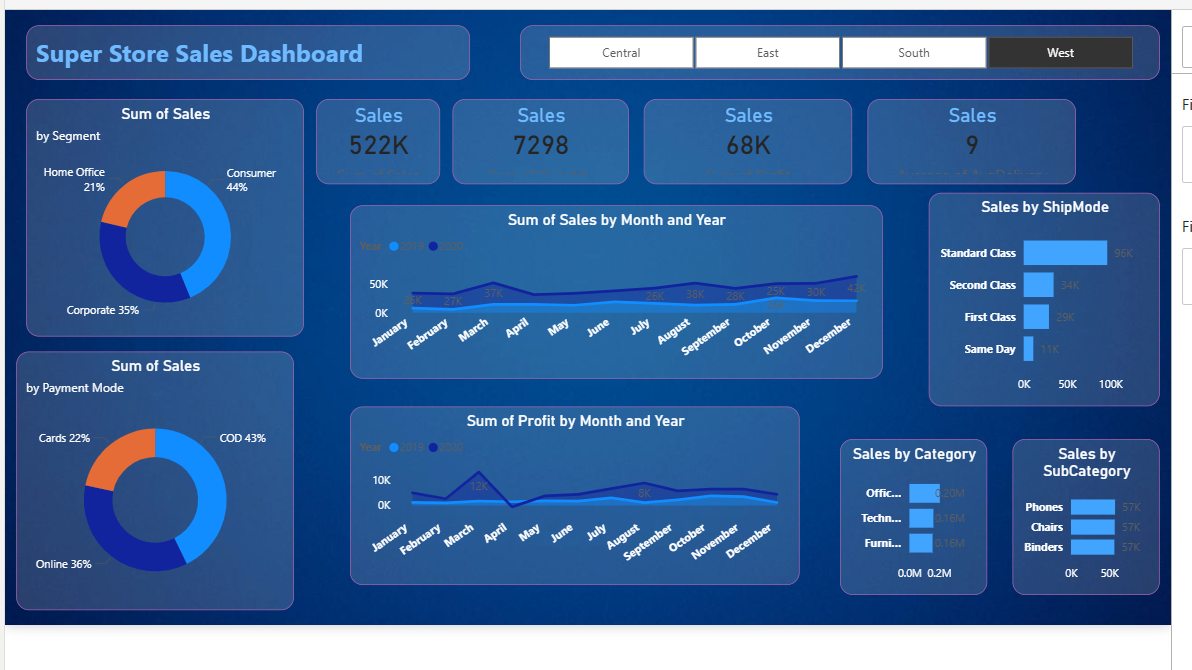

What the dashboard file says about the page in this screenshot:
{"tool":"powerbi","page":{"name":"Page 1","canvas":[1280,720],"ordinal":0},"visuals":[{"type":"clusteredBarChart","title":"Sales by Category","fields":{"Category":["SuperStore_Sales_Dataset.Category"],"Y":["Sum(SuperStore_Sales_Dataset.Sales)"]},"box":[916.6,516,161.9,171.5],"z":0},{"type":"clusteredBarChart","title":"Sales by SubCategory","fields":{"Category":["SuperStore_Sales_Dataset.Sub-Category","SuperStore_Sales_Dataset.Category"],"Y":["Sum(SuperStore_Sales_Dataset.Sales)"]},"box":[1106,516,161.9,171.5],"z":1000},{"type":"clusteredBarChart","title":"Sales by ShipMode","fields":{"Category":["SuperStore_Sales_Dataset.Ship Mode","SuperStore_Sales_Dataset.Sub-Category","SuperStore_Sales_Dataset.Category"],"Y":["Sum(SuperStore_Sales_Dataset.Sales)"]},"box":[1014.1,245.6,253.9,234.6],"z":2000},{"type":"stackedAreaChart","fields":{"Y":["Sum(SuperStore_Sales_Dataset.Sales)"],"Series":["SuperStore_Sales_Dataset.Order Date.Variation.Date Hierarchy.Year"],"Category":["SuperStore_Sales_Dataset.Order Date.Variation.Date Hierarchy.Month","SuperStore_Sales_Dataset.Order Date.Variation.Date Hierarchy.Day"]},"box":[378.7,259.3,584.6,190.7],"z":3000},{"type":"stackedAreaChart","fields":{"Series":["SuperStore_Sales_Dataset.Order Date.Variation.Date Hierarchy.Year"],"Category":["SuperStore_Sales_Dataset.Order Date.Variation.Date Hierarchy.Month","SuperStore_Sales_Dataset.Order Date.Variation.Date Hierarchy.Day"],"Y":["Sum(SuperStore_Sales_Dataset.Profit)"]},"box":[378.7,480.3,494,196.2],"z":4000},{"type":"donutChart","fields":{"Category":["SuperStore_Sales_Dataset.Segment"],"Y":["Sum(SuperStore_Sales_Dataset.Sales)"]},"box":[23.3,142.7,304.6,260.7],"z":5000},{"type":"donutChart","fields":{"Category":["SuperStore_Sales_Dataset.Payment Mode","SuperStore_Sales_Dataset.Segment"],"Y":["Sum(SuperStore_Sales_Dataset.Sales)"]},"box":[12.3,419.9,304.6,284],"z":6000},{"type":"slicer","fields":{"Values":["SuperStore_Sales_Dataset.Region"]},"box":[565.4,61.7,702.6,60.4],"z":7000},{"type":"textbox","box":[23.3,61.7,487.1,60.4],"z":8000},{"type":"card","title":"Sales","fields":{"Values":["Sum(SuperStore_Sales_Dataset.Sales)"]},"box":[341.7,142.7,135.8,93.3],"z":9000},{"type":"card","title":"Sales","fields":{"Values":["Sum(SuperStore_Sales_Dataset.Quantity)"]},"box":[491.3,142.7,193.5,93.3],"z":10000},{"type":"card","title":"Sales","fields":{"Values":["Sum(SuperStore_Sales_Dataset.Profit)"]},"box":[701.2,142.7,229.2,93.3],"z":11000},{"type":"card","title":"Sales","fields":{"Values":["Avg(SuperStore_Sales_Dataset.AvgDelivery)"]},"box":[946.8,142.7,229.2,93.3],"z":12000}]}

Visuals, with their boxes in screenshot pixels (x1, y1, x2, y2), scaled from the page's 1280x720 canvas onto the 1192x670 screenshot:
"Sales by Category" clusteredBarChart: box=[854, 480, 1004, 640]
"Sales by SubCategory" clusteredBarChart: box=[1030, 480, 1181, 640]
"Sales by ShipMode" clusteredBarChart: box=[944, 229, 1181, 447]
stackedAreaChart - Sum(SuperStore_Sales_Dataset.Sales) x SuperStore_Sales_Dataset.Order Date.Variation.Date Hierarchy.Year: box=[353, 241, 897, 419]
stackedAreaChart - SuperStore_Sales_Dataset.Order Date.Variation.Date Hierarchy.Year x SuperStore_Sales_Dataset.Order Date.Variation.Date Hierarchy.Month: box=[353, 447, 813, 630]
donutChart - SuperStore_Sales_Dataset.Segment x Sum(SuperStore_Sales_Dataset.Sales): box=[22, 133, 305, 375]
donutChart - SuperStore_Sales_Dataset.Payment Mode x SuperStore_Sales_Dataset.Segment: box=[11, 391, 295, 655]
slicer - SuperStore_Sales_Dataset.Region: box=[527, 57, 1181, 114]
textbox: box=[22, 57, 475, 114]
"Sales" card: box=[318, 133, 445, 220]
"Sales" card: box=[458, 133, 638, 220]
"Sales" card: box=[653, 133, 866, 220]
"Sales" card: box=[882, 133, 1095, 220]
